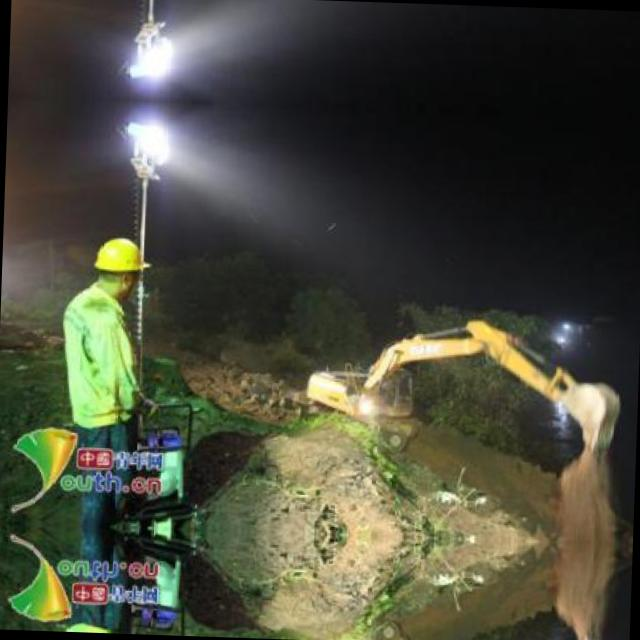helmet: (90, 231, 148, 296)
